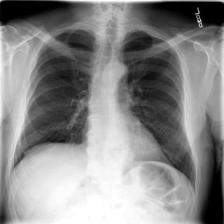normal: (11, 19, 201, 194)
